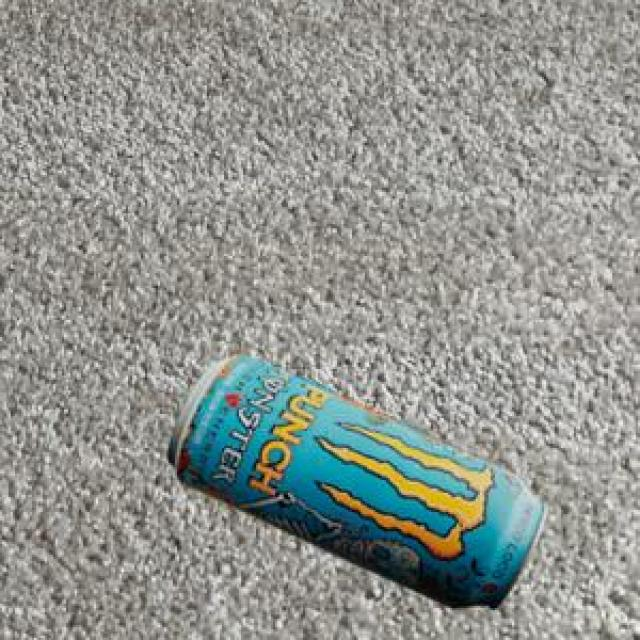logam: (165, 351, 545, 607)
